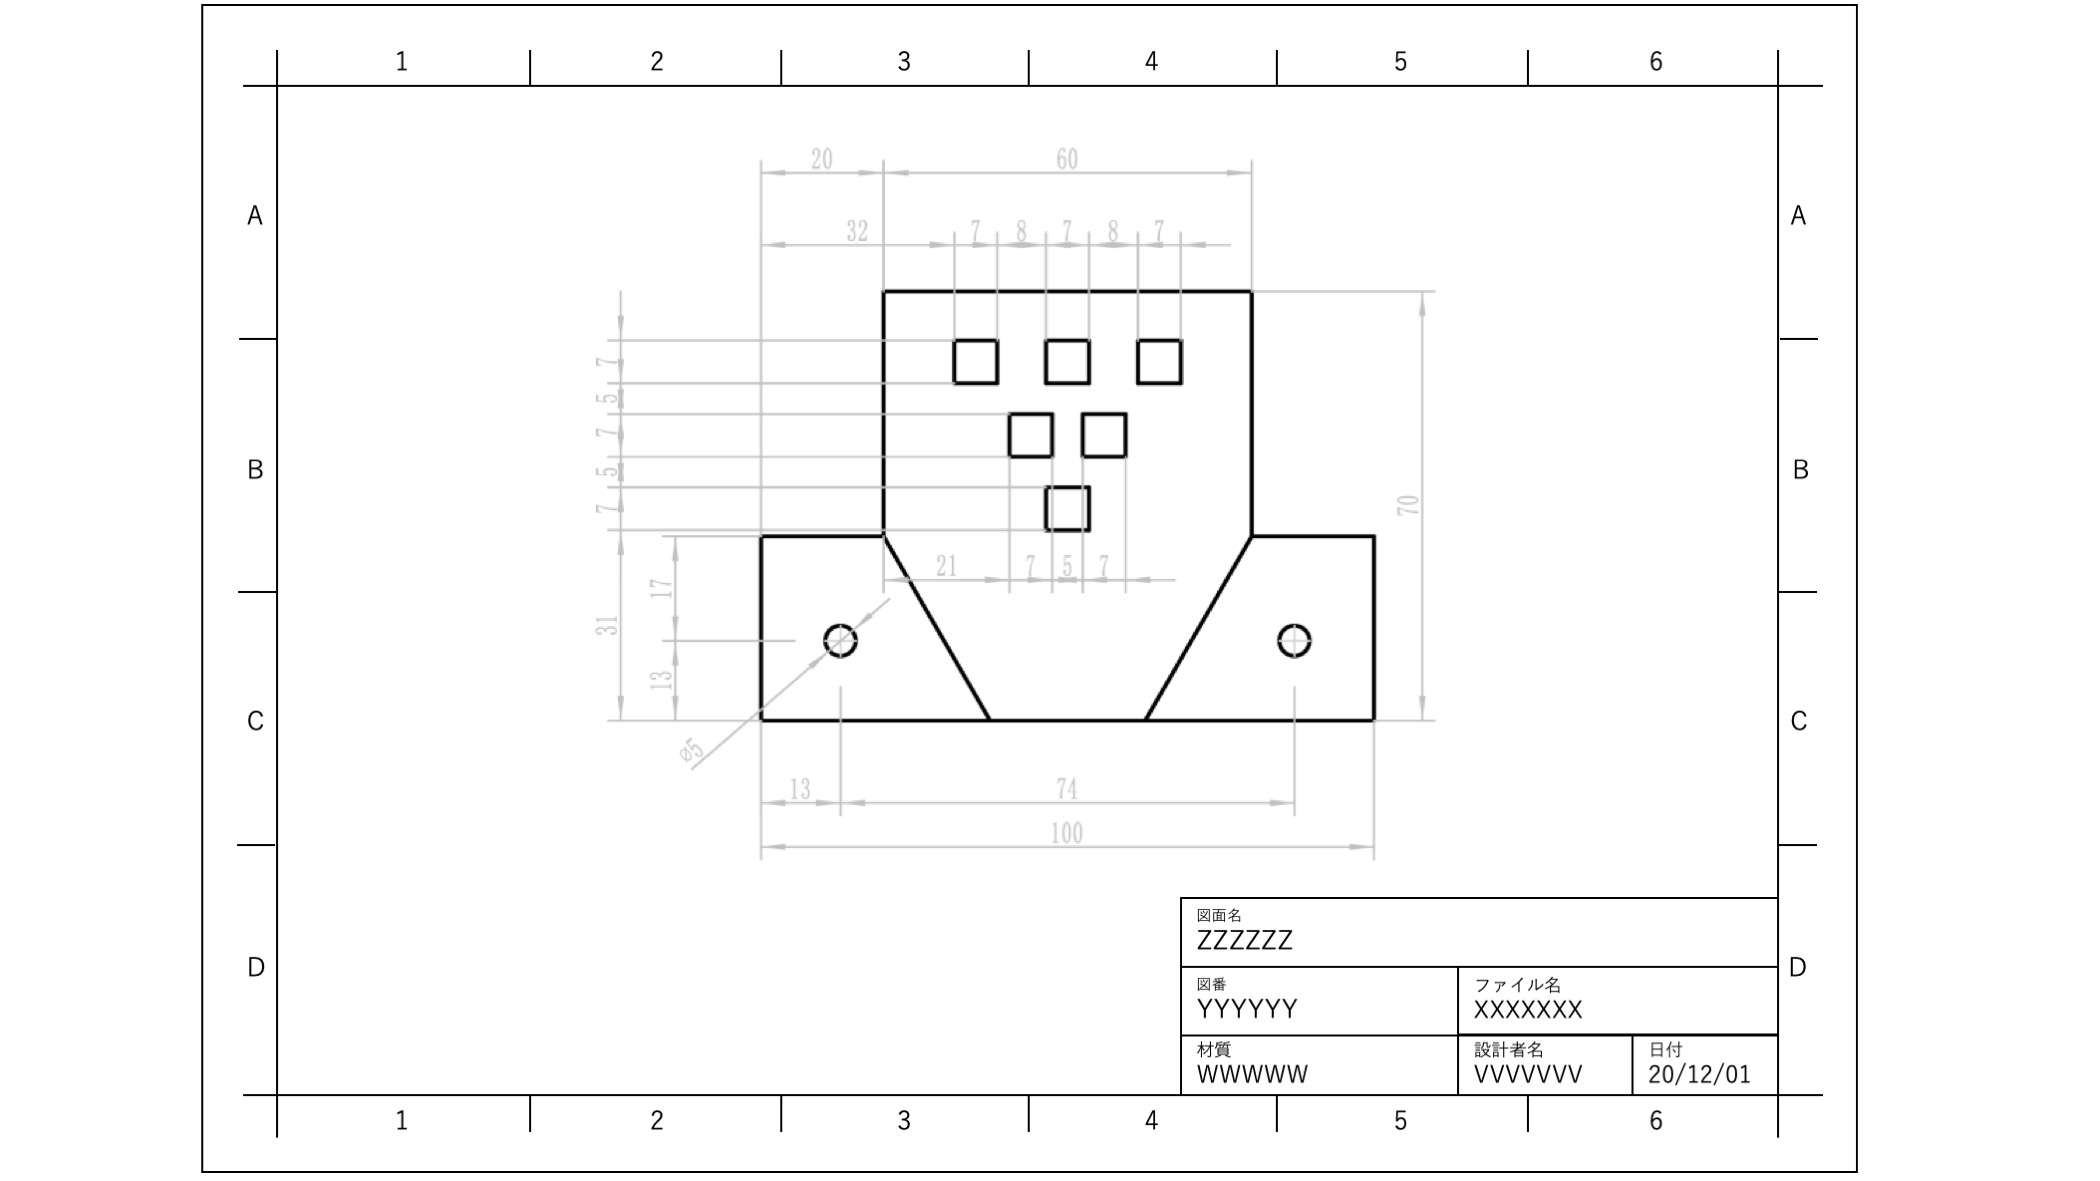circle: (1269, 614, 1318, 663), (816, 619, 862, 668)
rectangle: (1031, 330, 1098, 389), (1126, 330, 1190, 391), (948, 327, 1005, 394), (1073, 407, 1134, 466), (1034, 480, 1096, 536), (1001, 404, 1059, 459)
